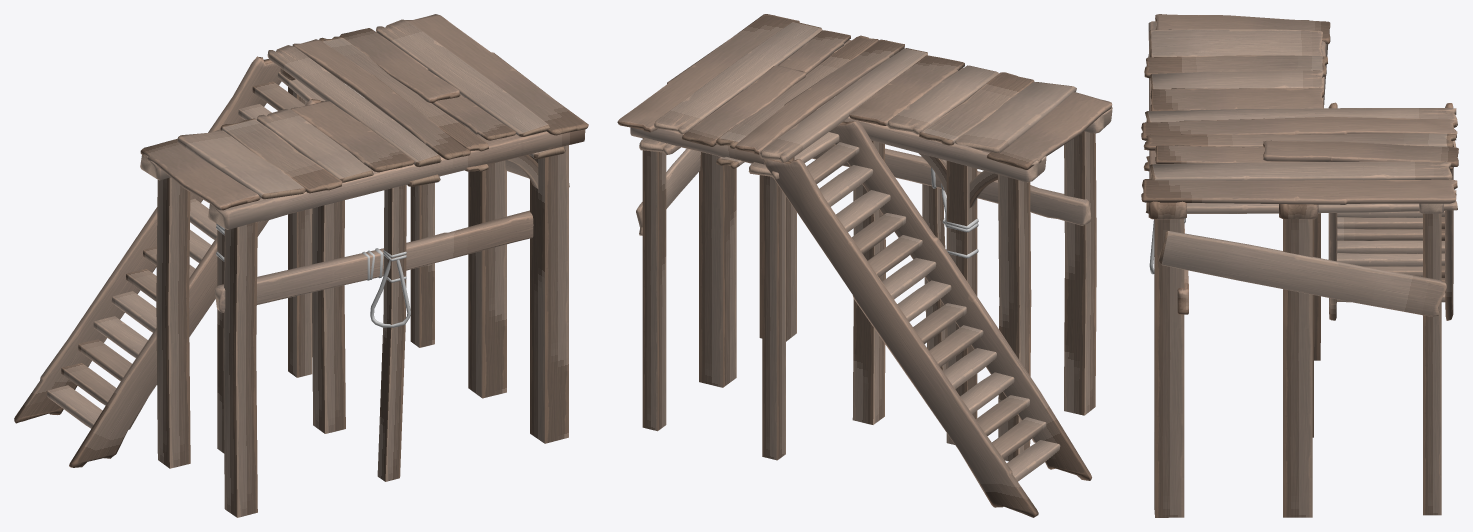
File: SM_Scaffolding_02.fbx
3 renders of one model, left to right at view 1: azimuth 30°, elevation 25°; view 2: azimuth 150°, elevation 25°; view 3: azimuth 270°, elevation 25°, orthographic. The views are drawn at different scales.
Visible parts, largest first — view 1: SM_Scaffolding_02_LOD0; view 2: SM_Scaffolding_02_LOD0; view 3: SM_Scaffolding_02_LOD0.
Part boxes in pixels (box(x1,y1,x2,y2)): SM_Scaffolding_02_LOD0: box(14, 14, 588, 517); SM_Scaffolding_02_LOD0: box(617, 14, 1112, 517); SM_Scaffolding_02_LOD0: box(1141, 14, 1458, 517).
Size of the model in its own units: 695 by 429 by 500.
